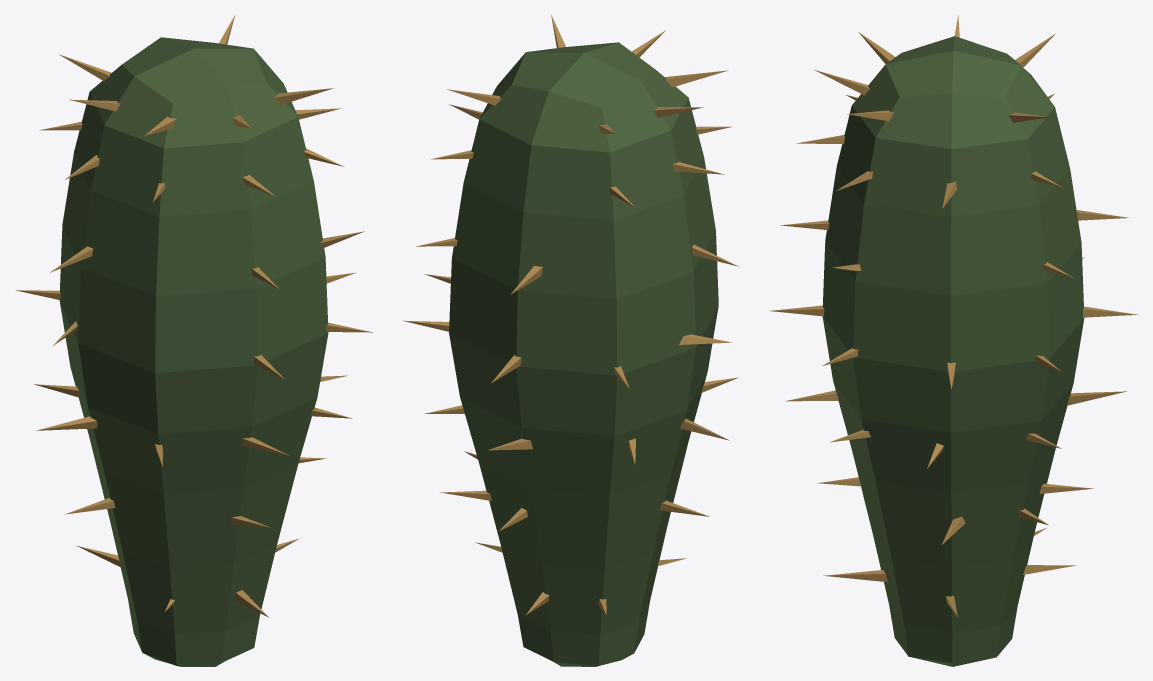
File: q-nature150-cactus-1.glb
3 views of the same model, side by side, from view 1: azimuth 30°, elevation 25°; view 2: azimuth 150°, elevation 25°; view 3: azimuth 270°, elevation 25° (orthographic).
Visible parts, largest first — view 1: Green, LightOrange; view 2: Green, LightOrange; view 3: Green, LightOrange.
Part boxes in pixels (left/top/right/bottom): Green: left=59, top=37, right=328, bottom=666; LightOrange: left=16, top=14, right=372, bottom=617; Green: left=449, top=42, right=718, bottom=666; LightOrange: left=402, top=14, right=738, bottom=615; Green: left=822, top=36, right=1084, bottom=666; LightOrange: left=769, top=15, right=1137, bottom=616.
Bounding box in the file's own units: 0.5497 × 1.01 × 0.5629.
